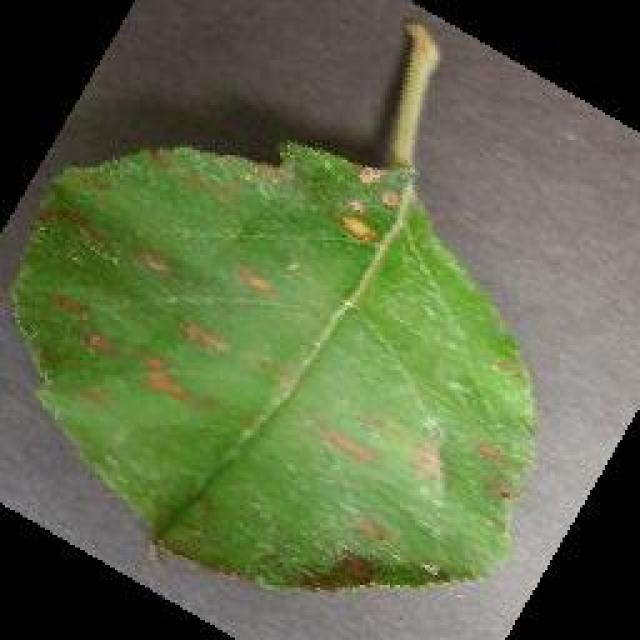apple healthy: (8, 15, 540, 595)
